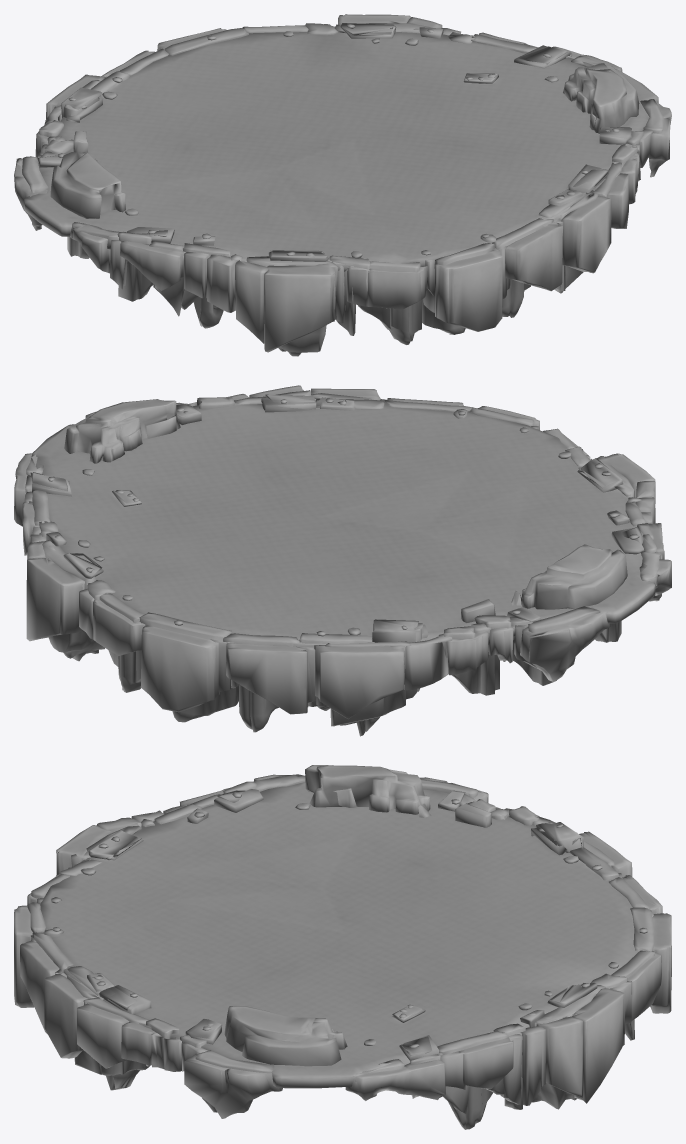
File: iron-island-3.glb
3 renders of one model, top to bottom at view 1: azimuth 30°, elevation 25°; view 2: azimuth 150°, elevation 25°; view 3: azimuth 270°, elevation 25°, orthographic. The views are drawn at different scales.
Visible parts, largest first — view 1: world; view 2: world; view 3: world.
Boxes of the visible parts, bbox=[...] form: world: bbox=[14, 14, 671, 356]; world: bbox=[14, 385, 671, 736]; world: bbox=[14, 765, 671, 1129].
Bounding box in the file's own units: 0.9546 × 0.1982 × 0.8623.
Materials: 1 (1 with a texture image).
